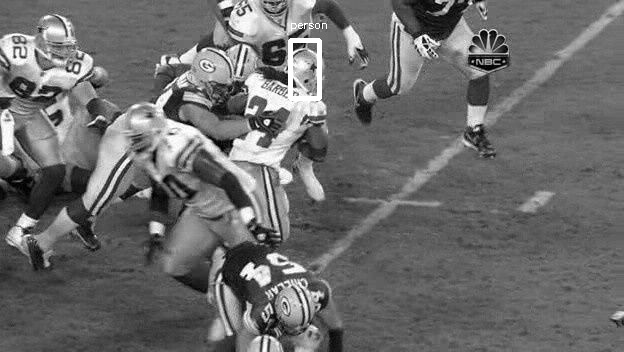person: (290, 48, 324, 92), (289, 48, 323, 92), (291, 48, 325, 92), (290, 47, 324, 91), (290, 49, 324, 93)
target_negative: (41, 136, 553, 340), (119, 39, 527, 78), (265, 244, 409, 285), (528, 177, 554, 328), (463, 324, 578, 332), (623, 258, 624, 314)
